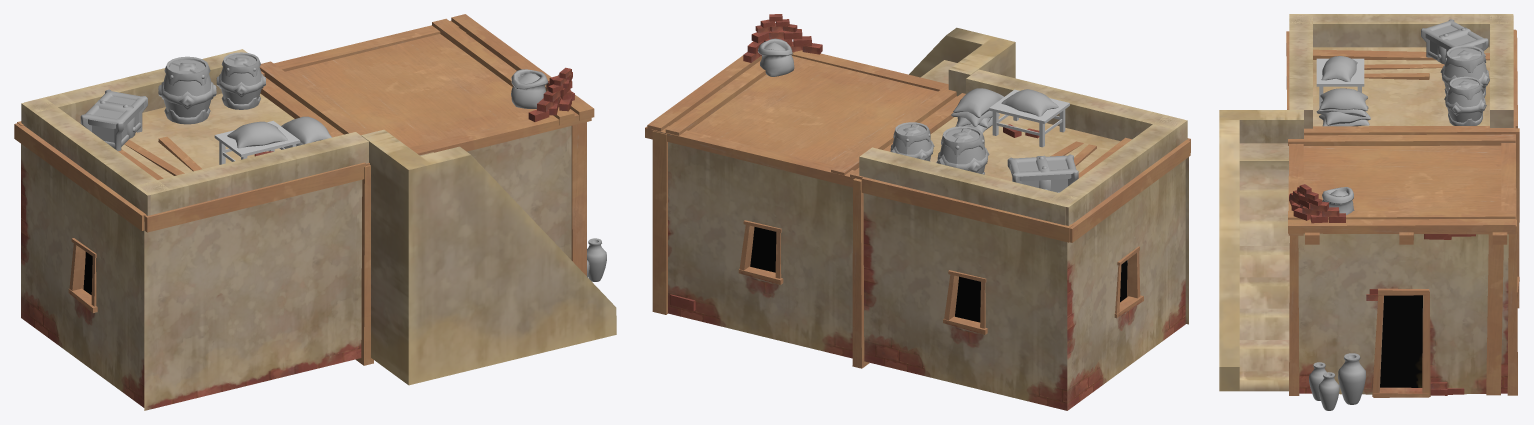
File: SM_house_2.fbx
The picture shows the model from 3 angles, left to right: view 1: azimuth 30°, elevation 25°; view 2: azimuth 150°, elevation 25°; view 3: azimuth 270°, elevation 25°; orthographic projection. The views are drawn at different scales.
Visible parts, largest first — view 1: kit1_window_wall18, polySurface1028, SM_BigBarrel2, polySurface1027, SM_Chest1, polySurface1022, SM_BigBarrel1, polySurface1030, SM_Bag_017, group29_pCube1299, SM_Bag_018, SM_Bag_022 (+2 smaller); view 2: kit1_window_wall18, polySurface1026, polySurface1020, polySurface1027, polySurface1029, SM_Chest1, SM_BigBarrel2, group29_pCube1299, SM_BigBarrel1, SM_Bag_017, SM_Bag_018, SM_Bag_022 (+2 smaller); view 3: kit1_window_wall18, polySurface1021, SM_BigBarrel1, polySurface1020, polySurface1022, SM_Chest1, SM_BigBarrel2, polySurface1023, polySurface1055, SM_Bag_022, group29_pCube1299, pCube1349 (+11 smaller).
Part boxes in pixels (box(x1,y1,x2,y2)): kit1_window_wall18: box(21, 14, 616, 410); polySurface1028: box(144, 162, 365, 232); SM_BigBarrel2: box(158, 56, 216, 124); polySurface1027: box(14, 123, 146, 230); SM_Chest1: box(80, 89, 147, 151); polySurface1022: box(571, 122, 586, 275); SM_BigBarrel1: box(216, 52, 265, 109); polySurface1030: box(355, 165, 373, 365); SM_Bag_017: box(511, 69, 548, 108); group29_pCube1299: box(214, 120, 300, 164); SM_Bag_018: box(227, 121, 287, 148); SM_Bag_022: box(281, 116, 331, 144); kit1_window_wall18: box(645, 27, 1188, 410); polySurface1026: box(861, 177, 1073, 242); polySurface1020: box(652, 131, 667, 314); polySurface1027: box(1069, 140, 1190, 242); polySurface1029: box(852, 178, 869, 368); SM_Chest1: box(1007, 154, 1078, 192); SM_BigBarrel2: box(936, 126, 989, 174); group29_pCube1299: box(989, 89, 1069, 147); SM_BigBarrel1: box(890, 122, 934, 161); SM_Bag_017: box(758, 38, 794, 76); SM_Bag_018: box(1001, 89, 1058, 116); SM_Bag_022: box(953, 88, 1003, 117); kit1_window_wall18: box(1219, 14, 1519, 397); polySurface1021: box(1486, 234, 1503, 395); SM_BigBarrel1: box(1444, 76, 1486, 125); polySurface1020: box(1507, 219, 1517, 395); polySurface1022: box(1289, 235, 1299, 395); SM_Chest1: box(1421, 19, 1488, 64); SM_BigBarrel2: box(1440, 45, 1489, 97); polySurface1023: box(1338, 353, 1365, 404); polySurface1055: box(1313, 49, 1489, 60); SM_Bag_022: box(1320, 88, 1367, 111); group29_pCube1299: box(1316, 58, 1364, 108); pCube1349: box(1293, 201, 1345, 223).
Size of the model in its own units: 9.68 by 4.66 by 5.84.
